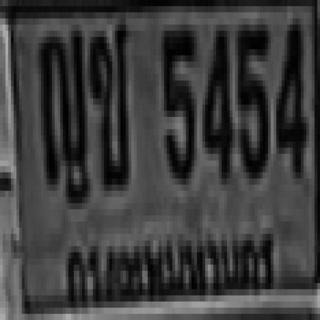A10: (89, 18, 127, 185)
A13: (37, 24, 86, 184)
N04: (274, 19, 304, 172), (202, 25, 230, 178)
N05: (161, 25, 194, 178), (236, 19, 266, 172)
P04: (60, 223, 283, 304)
